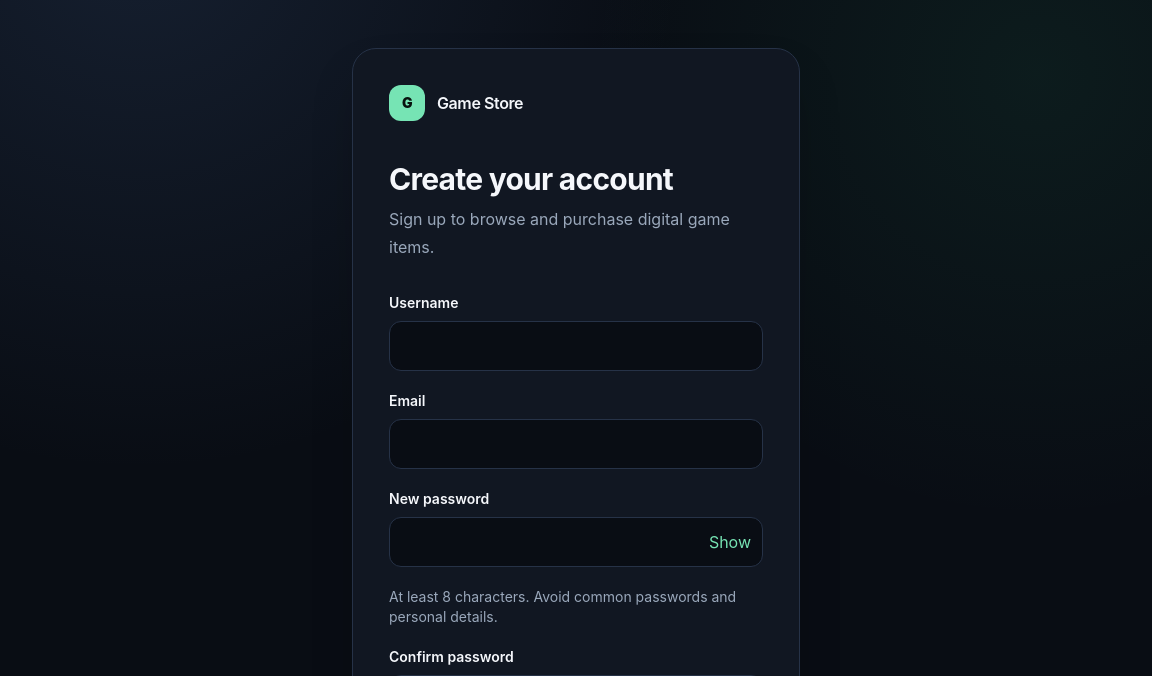
Scenario: shows signup confirmation
Expected: the link "Resend verification email" is not shown
Type "customer" into the field labelled "Username" at (576, 346), box [389,321,763,371]
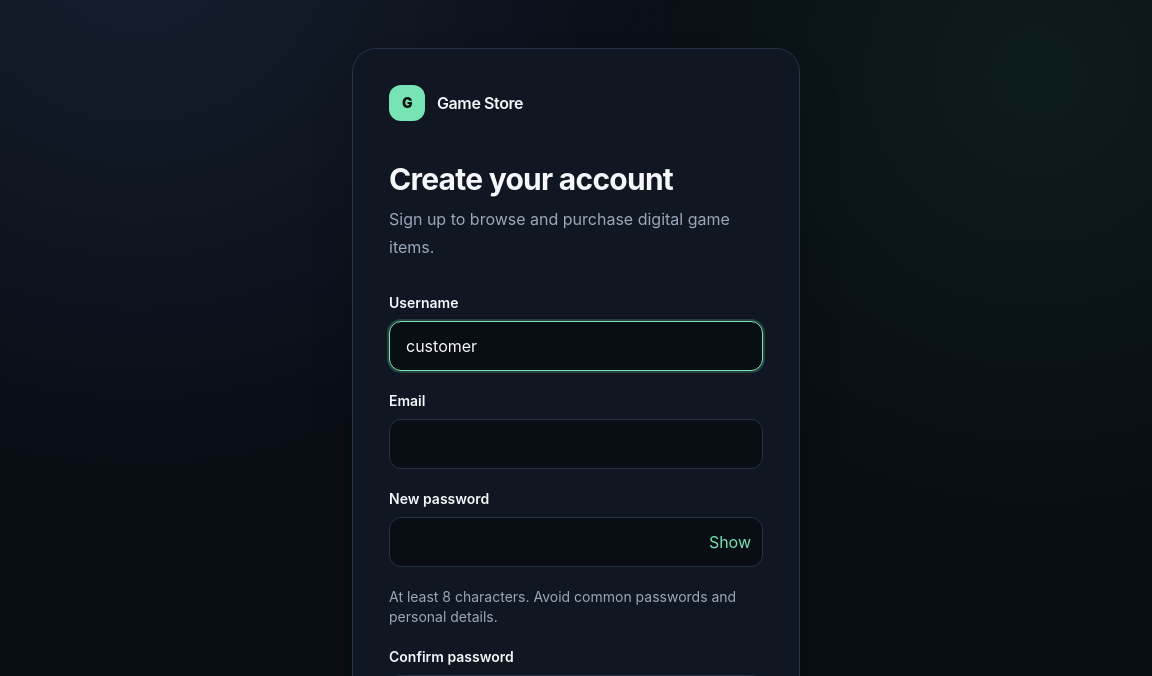
Type "customer@example.com" into the field labelled "Email" at (576, 444), box [389,419,763,469]
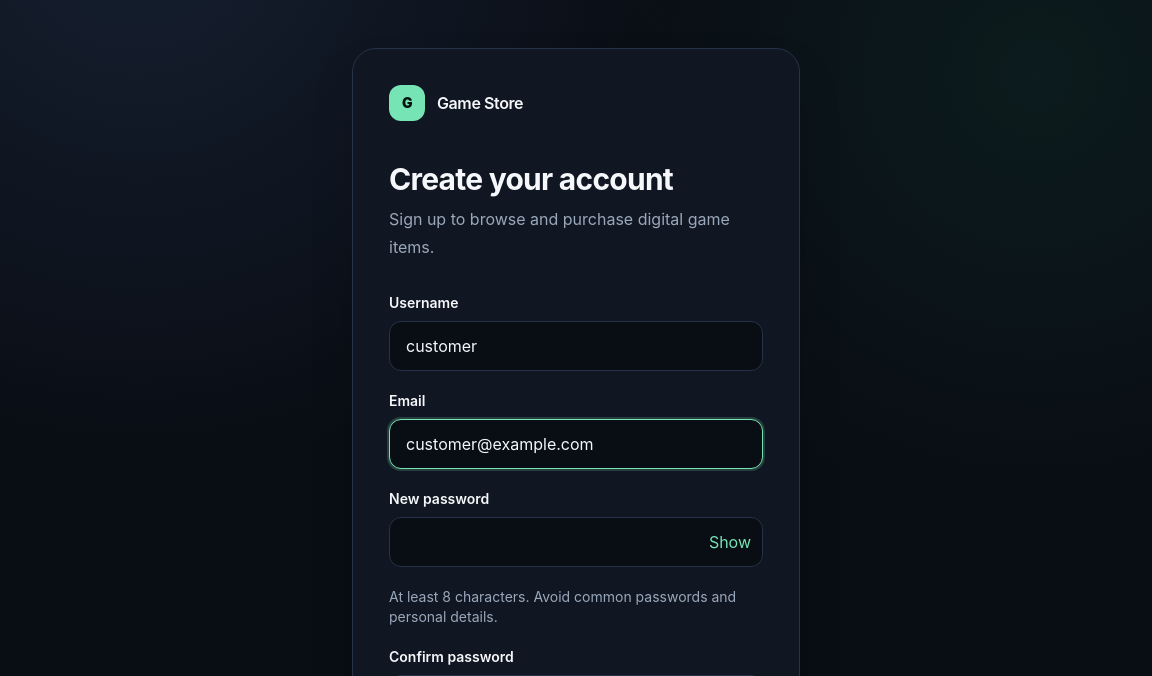
Type "River!lantern-5839" into the password field labelled "New password" at (576, 542), box [389,517,763,567]
(page scrolled)
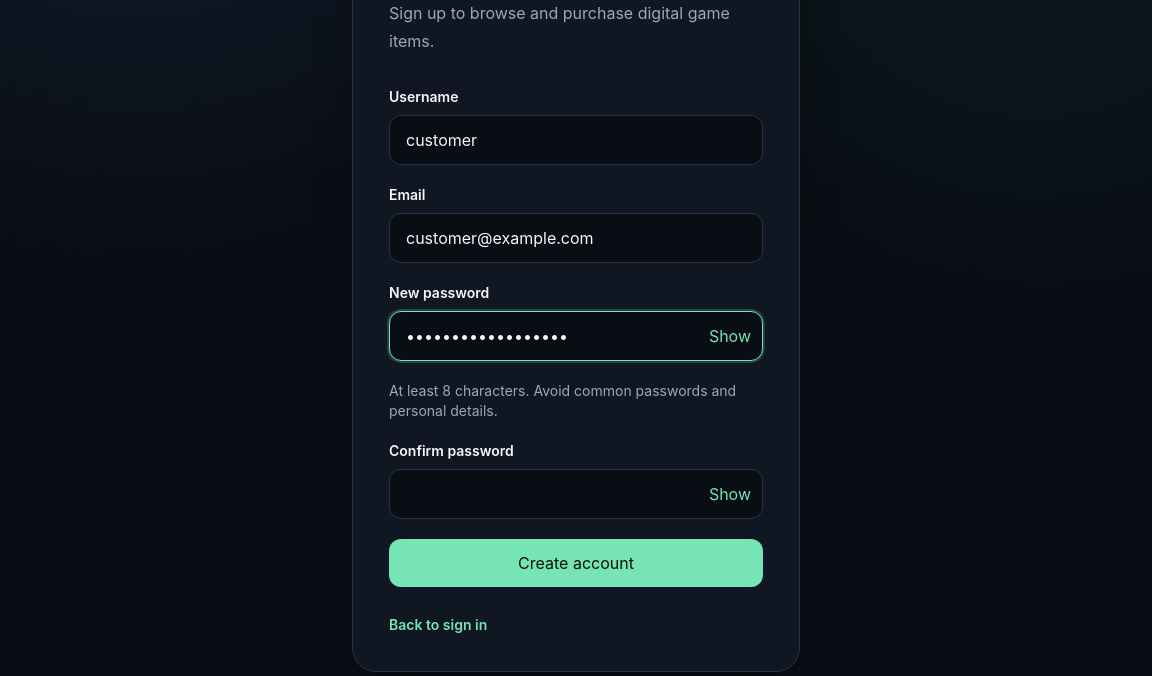
Type "River!lantern-5839" into the password field labelled "Confirm password" at (576, 494), box [389,469,763,519]
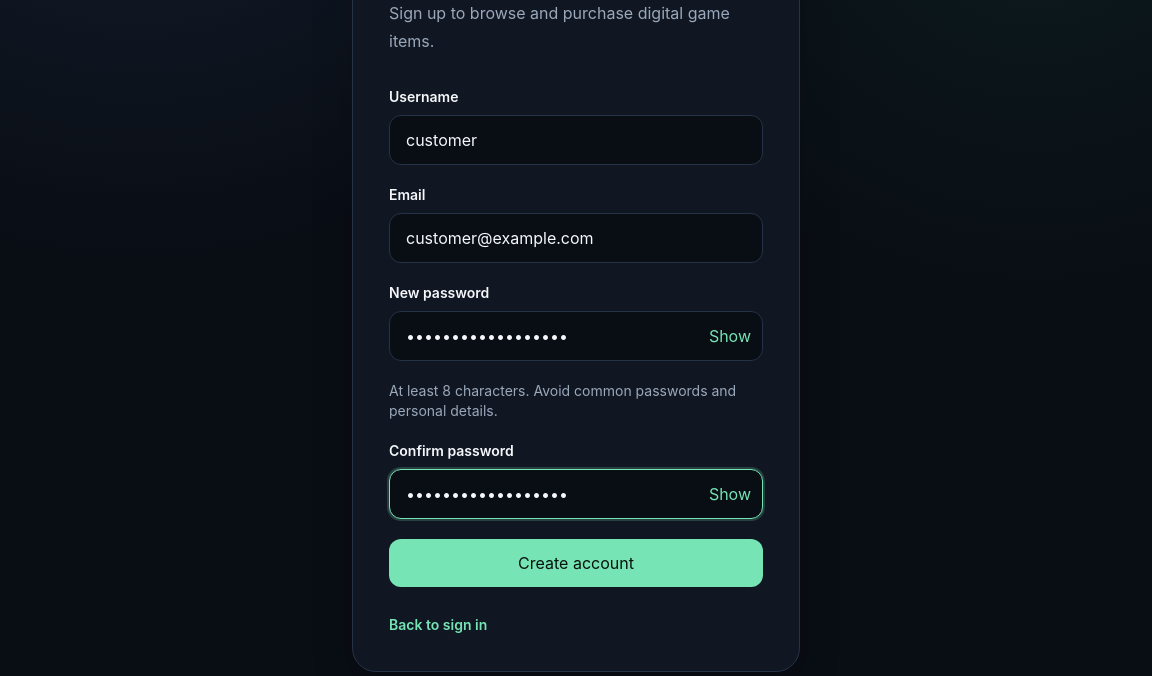
Click the button "Create account" at (576, 563), box [389,539,763,587]
(page scrolled)
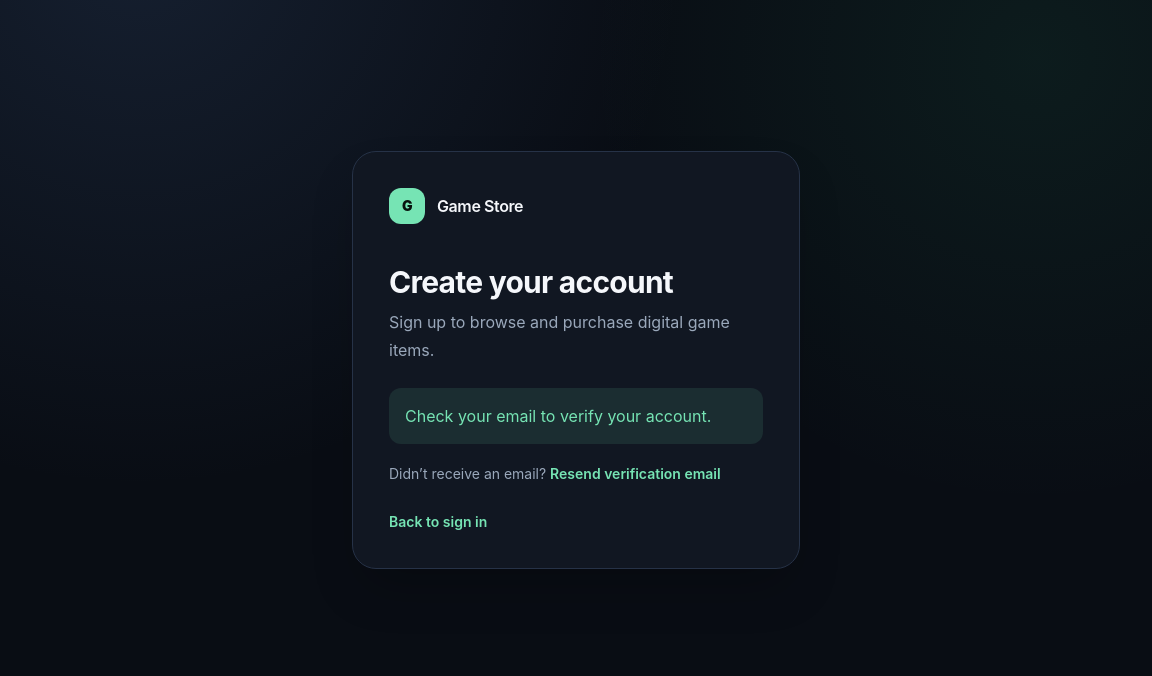
Expected: the message shows "Check your email", [405,406,711,426]
Expected: the link "Resend verification email" is shown, [550,465,721,482]
